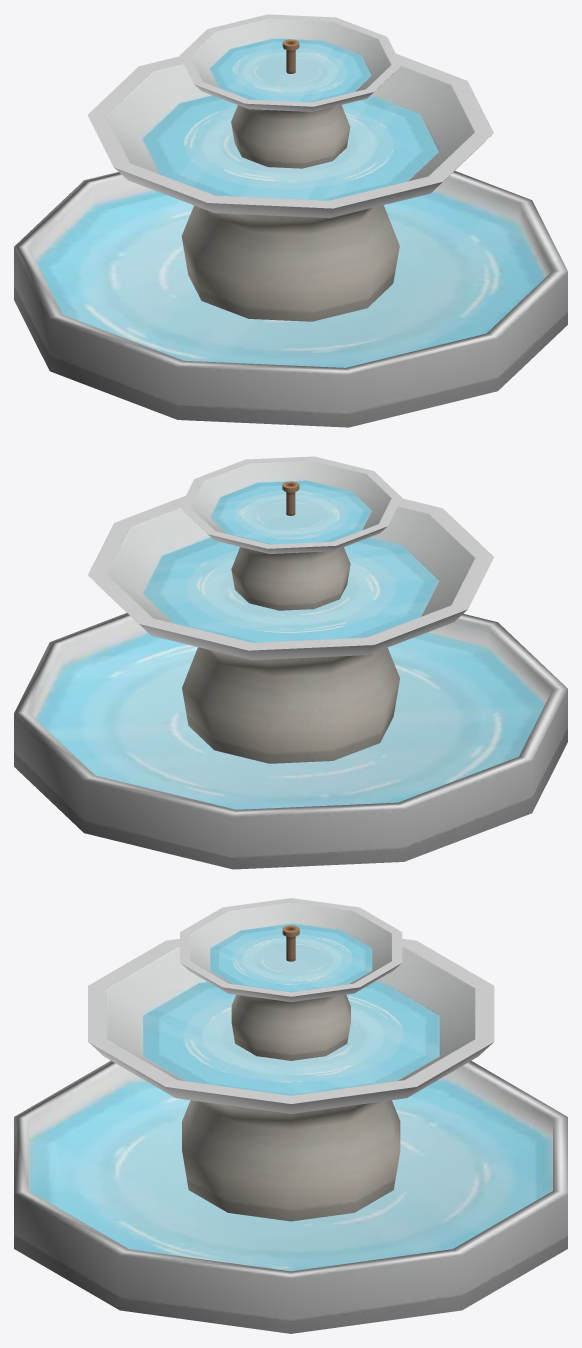
The model's file is city_fountain.glb.
3 renders of one model, top to bottom at view 1: azimuth 30°, elevation 25°; view 2: azimuth 150°, elevation 25°; view 3: azimuth 270°, elevation 25°, orthographic. The views are drawn at different scales.
Visible parts, largest first — view 1: city:polySurface326; view 2: city:polySurface326; view 3: city:polySurface326.
Boxes of the visible parts, x1,y1,x2,y2 form: city:polySurface326: (14, 14, 567, 427); city:polySurface326: (14, 456, 567, 869); city:polySurface326: (14, 898, 567, 1333).
Bounding box in the file's own units: 3.46 × 1.85 × 3.29.
1 material, 1 textured.
